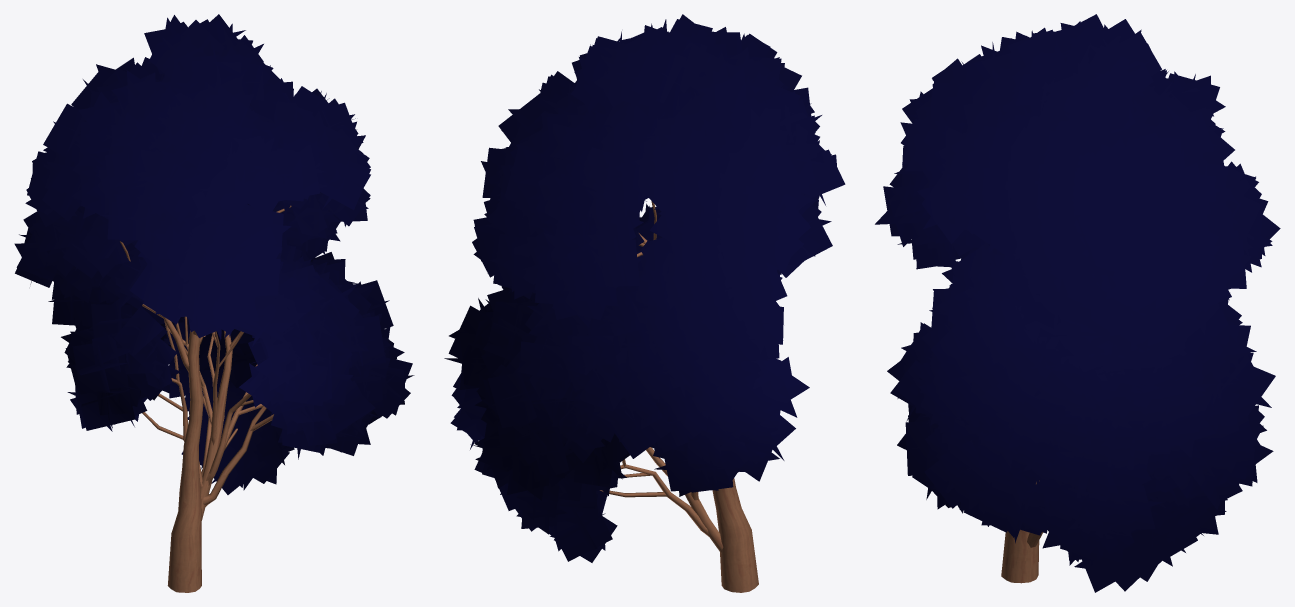
The model's file is SM_OakTree_07.fbx.
3 renders of one model, left to right at view 1: azimuth 30°, elevation 25°; view 2: azimuth 150°, elevation 25°; view 3: azimuth 270°, elevation 25°, orthographic. The views are drawn at different scales.
Parts seen in each view (by area): view 1: SM_OakTree_07_LOD0; view 2: SM_OakTree_07_LOD0; view 3: SM_OakTree_07_LOD0.
Boxes of the visible parts, <box> form: SM_OakTree_07_LOD0: <box>14,14,414,592</box>; SM_OakTree_07_LOD0: <box>444,14,845,592</box>; SM_OakTree_07_LOD0: <box>875,14,1280,592</box>.
Size of what is drawn, in the model's own units: 704 by 1068 by 683.
